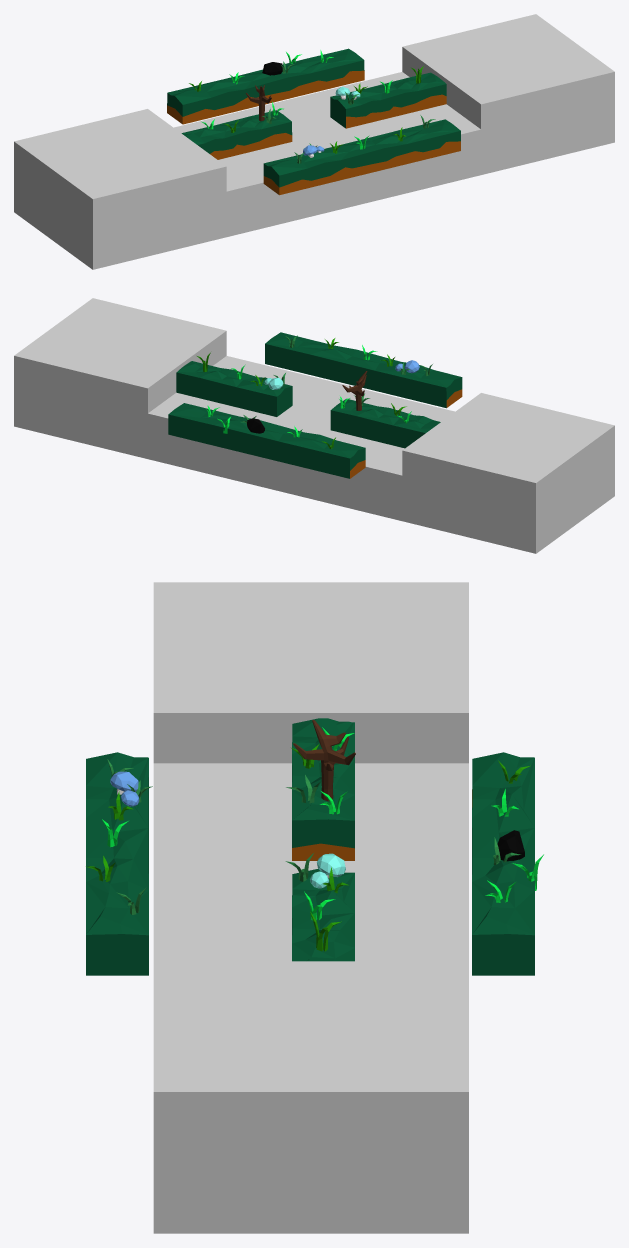
Rendered from VHard_Obstacle_Forest_12.fbx.
3 views of the same model, one above another, from view 1: azimuth 30°, elevation 25°; view 2: azimuth 150°, elevation 25°; view 3: azimuth 270°, elevation 25° (orthographic). The views are drawn at different scales.
Visible parts, largest first — view 1: Cube, Icosphere.007; view 2: Cube, Icosphere.007; view 3: Cube, Icosphere.007.
Boxes of the visible parts, left/top/right/bottom form: Cube: left=14, top=14, right=614, bottom=269; Icosphere.007: left=167, top=48, right=460, bottom=195; Cube: left=14, top=298, right=614, bottom=553; Icosphere.007: left=168, top=332, right=462, bottom=478; Cube: left=153, top=582, right=468, bottom=1233; Icosphere.007: left=86, top=718, right=543, bottom=975.
Bounding box in the file's own units: 10231 × 1934 × 3905.
